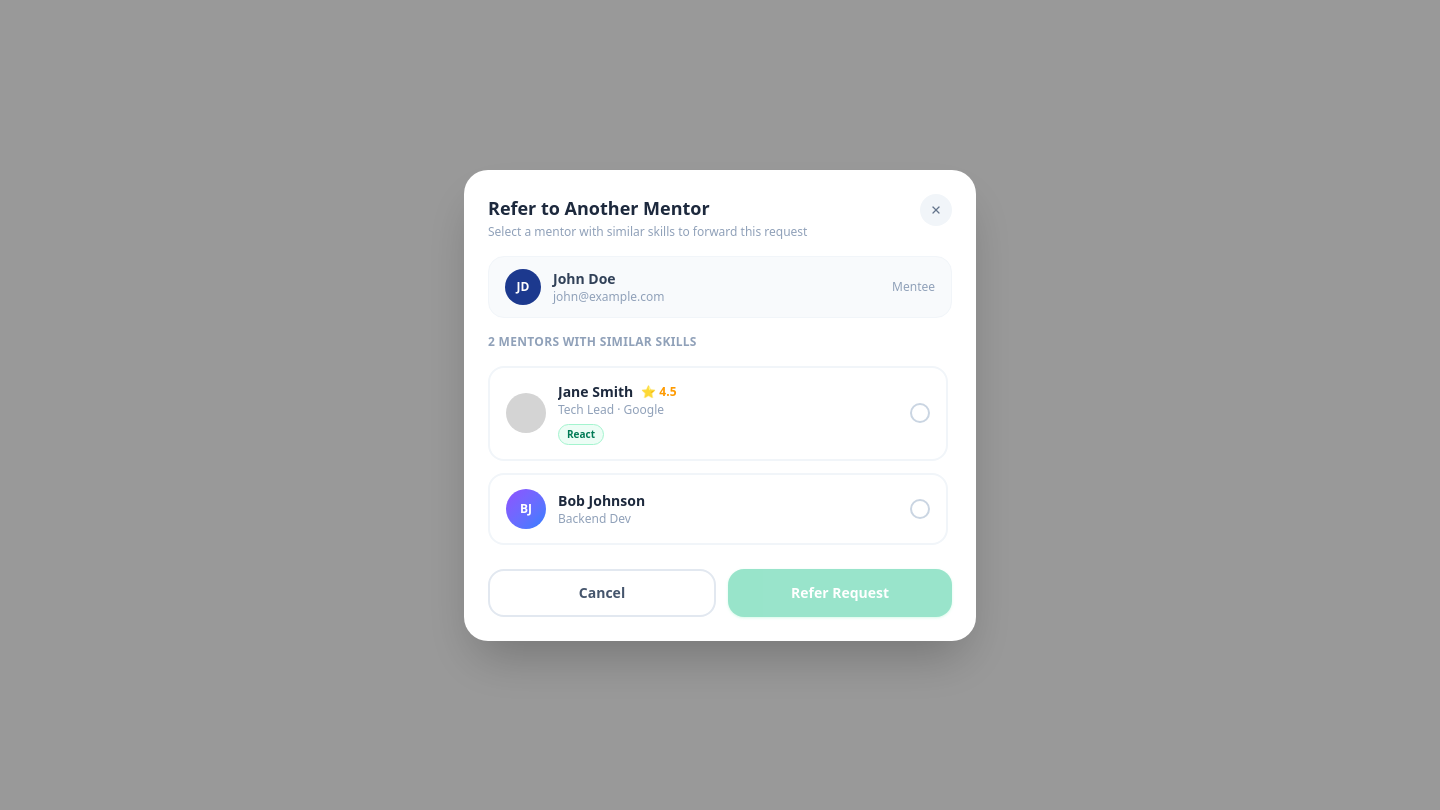
it: ReferModal Component › covers referRequest error with response.data.message (line 51 left branch)
Click the button "Jane Smith ⭐ 4.5 Tech Lead · Google React". click: (526, 413)
box: [488,366,948,460]
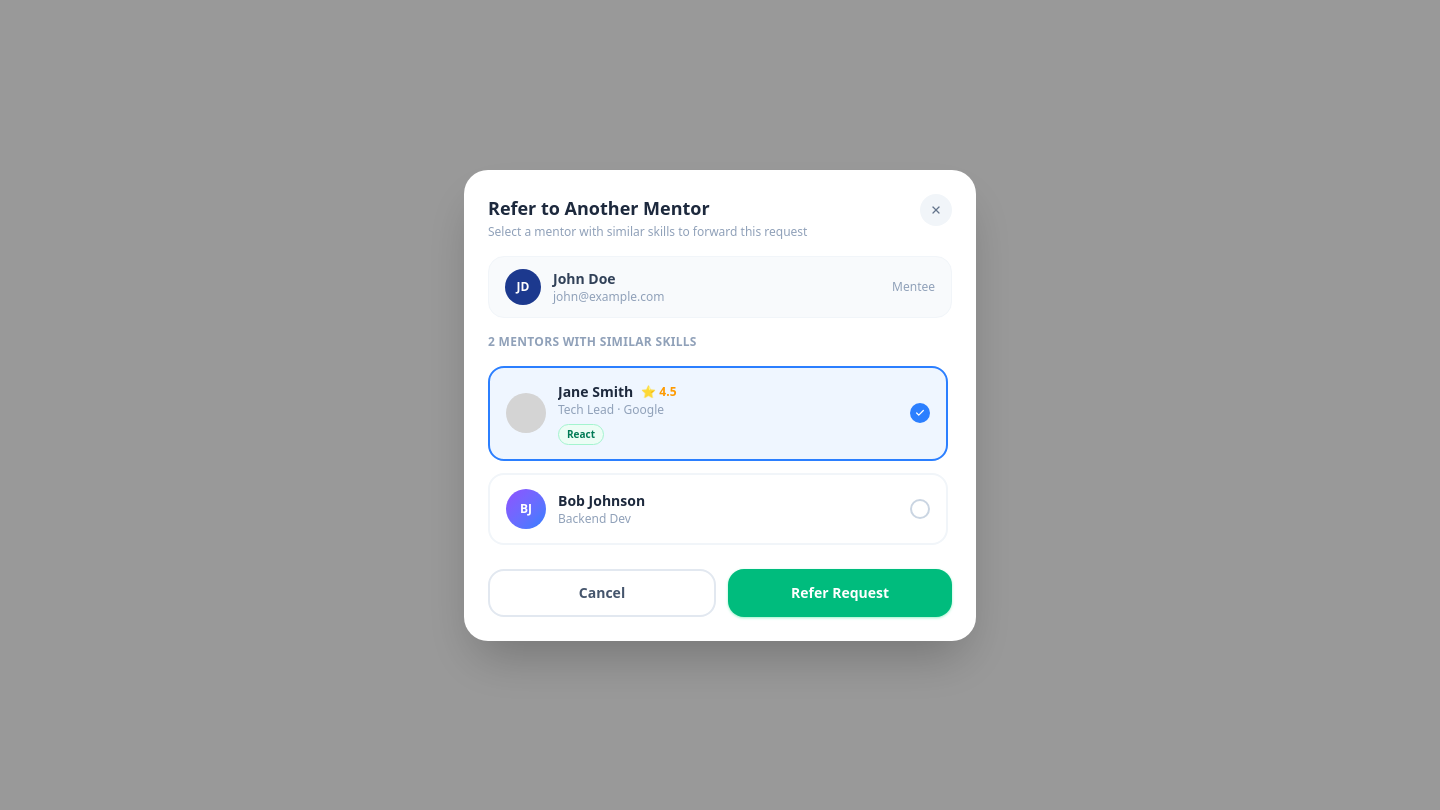
Click the button "Refer Request". click: (840, 592)
box: [728,568,952,616]
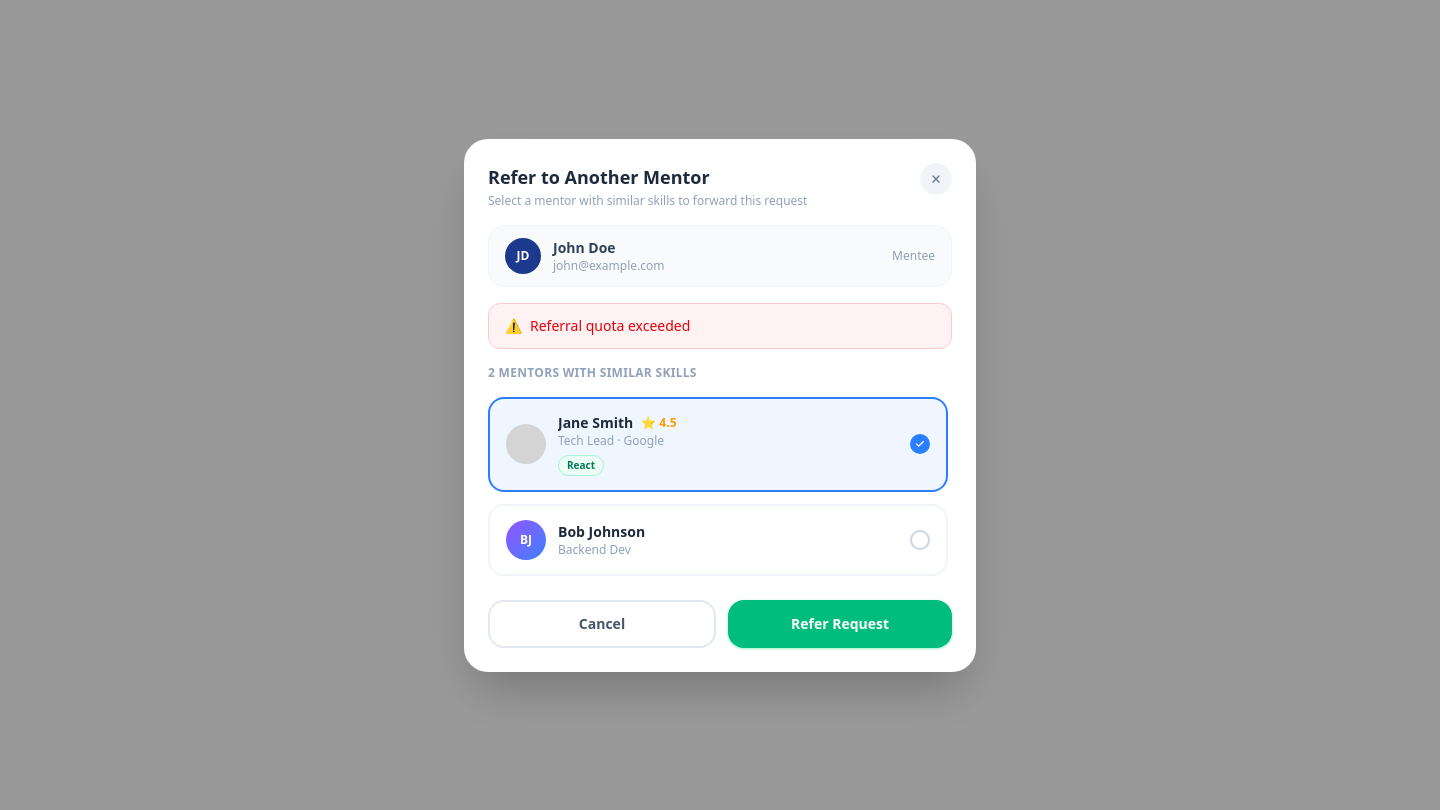
Result: the text "Referral quota exceeded" is shown at [530,316,690,334]
